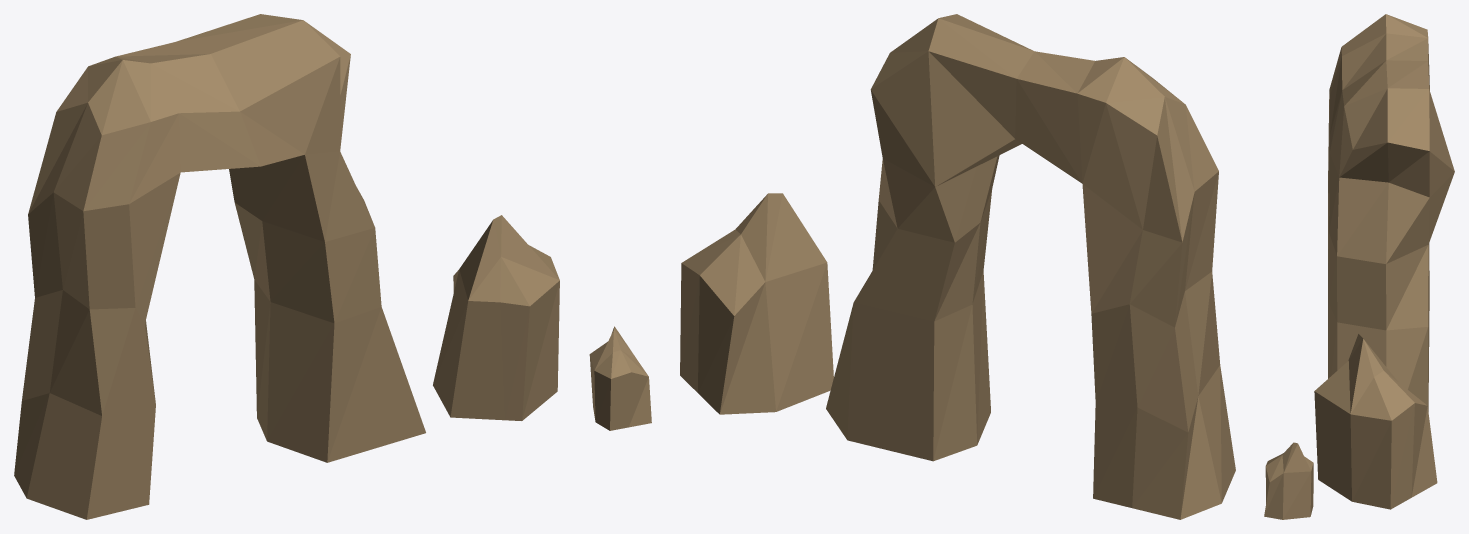
File: Stones.fbx
3 renders of one model, left to right at view 1: azimuth 30°, elevation 25°; view 2: azimuth 150°, elevation 25°; view 3: azimuth 270°, elevation 25°, orthographic. The views are drawn at different scales.
Parts seen in each view (by area): view 1: Stone, Stone1, Stone1_1; view 2: Stone, Stone1; view 3: Stone, Stone1, Stone1_1.
Boxes of the visible parts, x1=… form: Stone: x1=14, y1=14, x2=425, y2=519; Stone1: x1=433, y1=215, x2=559, y2=420; Stone1_1: x1=589, y1=326, x2=651, y2=430; Stone: x1=826, y1=14, x2=1235, y2=519; Stone1: x1=680, y1=193, x2=833, y2=414; Stone: x1=1328, y1=14, x2=1454, y2=411; Stone1: x1=1314, y1=334, x2=1437, y2=509; Stone1_1: x1=1264, y1=442, x2=1313, y2=519.
Size of the model in its own units: 713 by 510 by 268.
